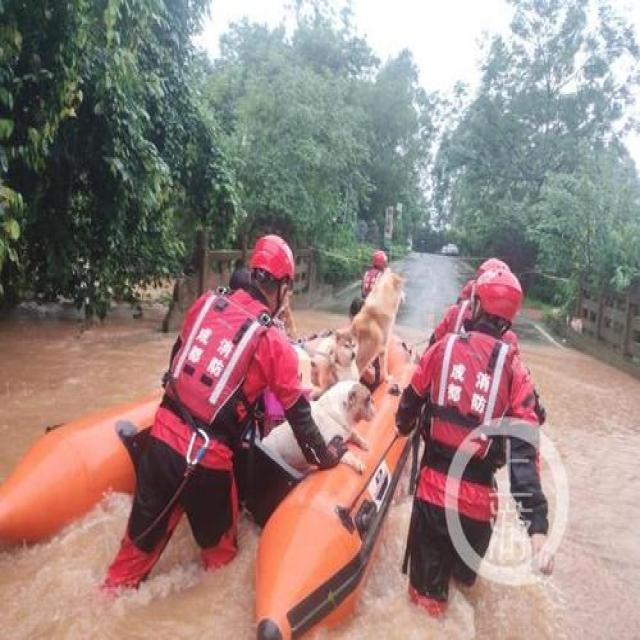rescuer: (127, 238, 310, 564), (410, 264, 541, 620)
